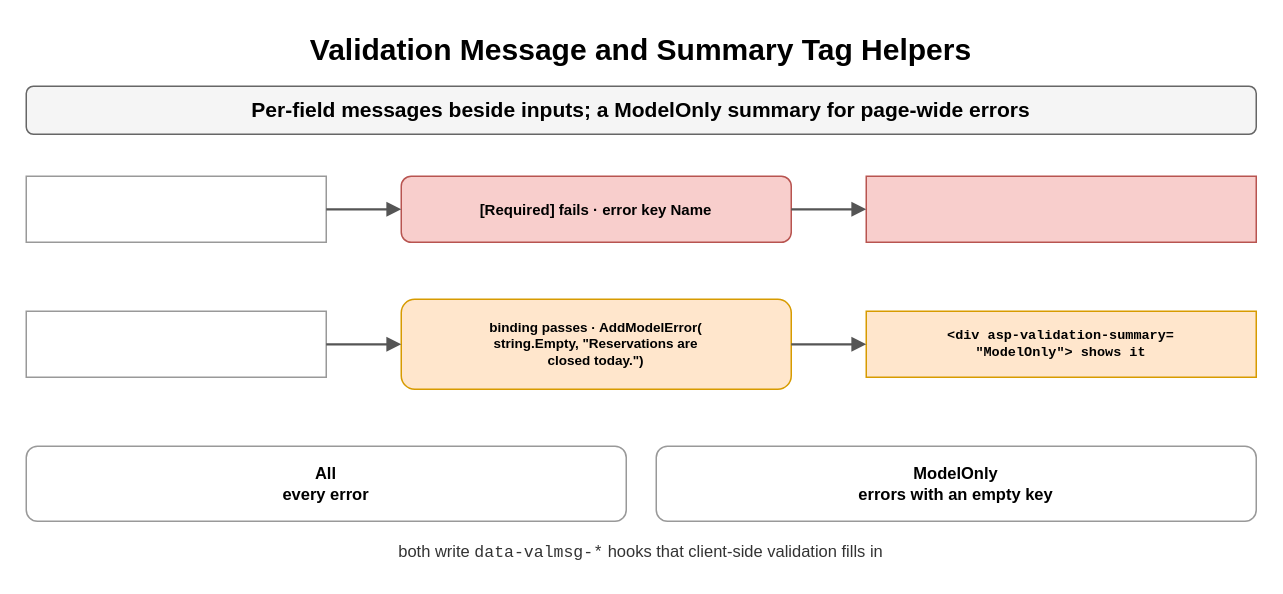
This 1283x594 diagram has some shape labels left out. The shapes that lost their labels are listed below. From the top down, each one's centre as x and y in pixels, then its label:
pixel 175 208: POST Name = empty
pixel 1060 208: <span asp-validation-for="Name"> shows the field message
pixel 175 343: POST Name = Ada
